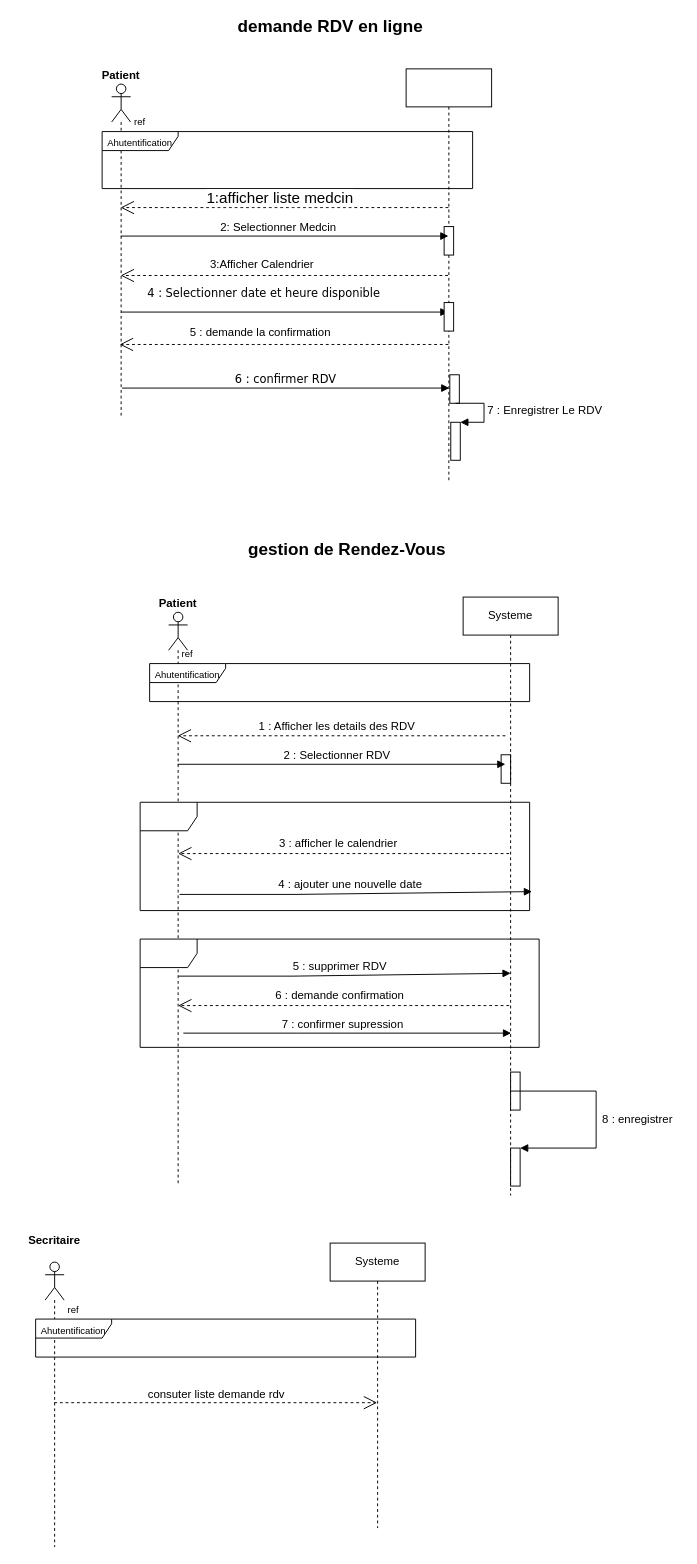
Image size: 697x1564. Some labels were removed from this diagram. The box of each missing label's shape, as (x1, y1, x2, y2) in pixels:
alt Modification: (139, 801, 530, 911)
alt Suppresion: (139, 938, 539, 1047)
SYS: (405, 68, 492, 483)
